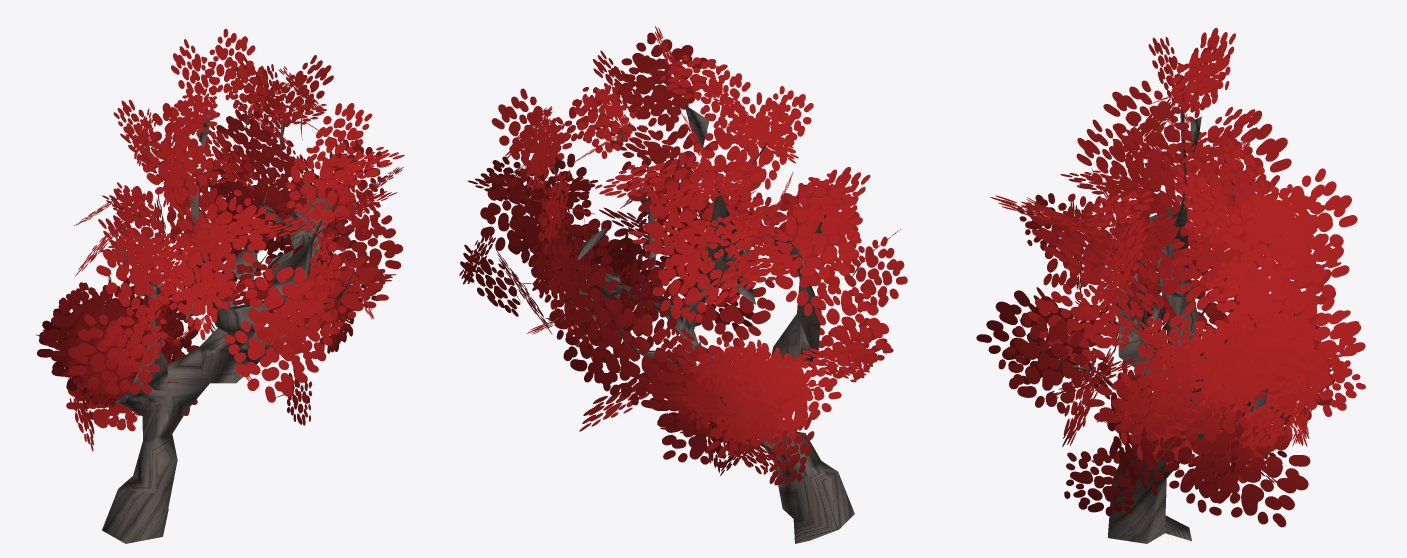
The model's file is TwistedTree_1_L.gltf.
3 views of the same model, side by side, from view 1: azimuth 30°, elevation 25°; view 2: azimuth 150°, elevation 25°; view 3: azimuth 270°, elevation 25° (orthographic). The views are drawn at different scales.
Parts seen in each view (by area): view 1: TwistedTree_1_L; view 2: TwistedTree_1_L; view 3: TwistedTree_1_L.
Boxes of the visible parts, x1=… form: TwistedTree_1_L: x1=36, y1=28, x2=404, y2=543; TwistedTree_1_L: x1=459, y1=26, x2=907, y2=543; TwistedTree_1_L: x1=976, y1=27, x2=1365, y2=543.
Bounding box in the file's own units: 14.8 × 17.21 × 11.78.
Materials: 2 (2 with a texture image).
